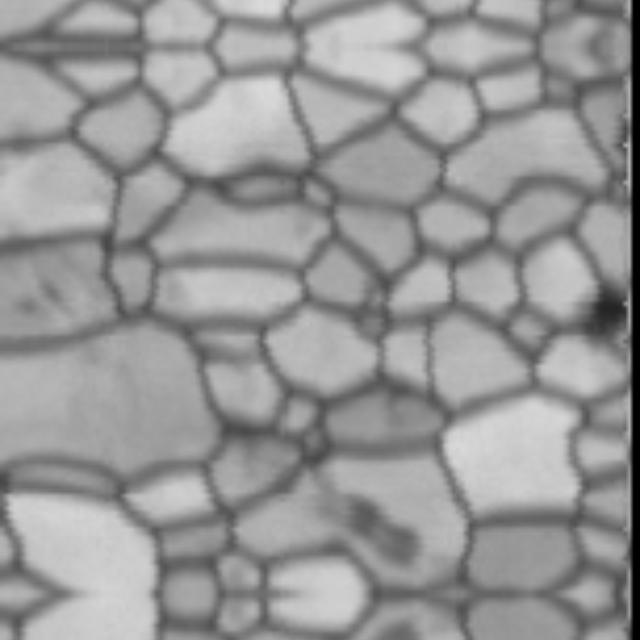good_void: (334, 471, 422, 580), (574, 272, 629, 361), (30, 267, 68, 314), (18, 290, 42, 318)
